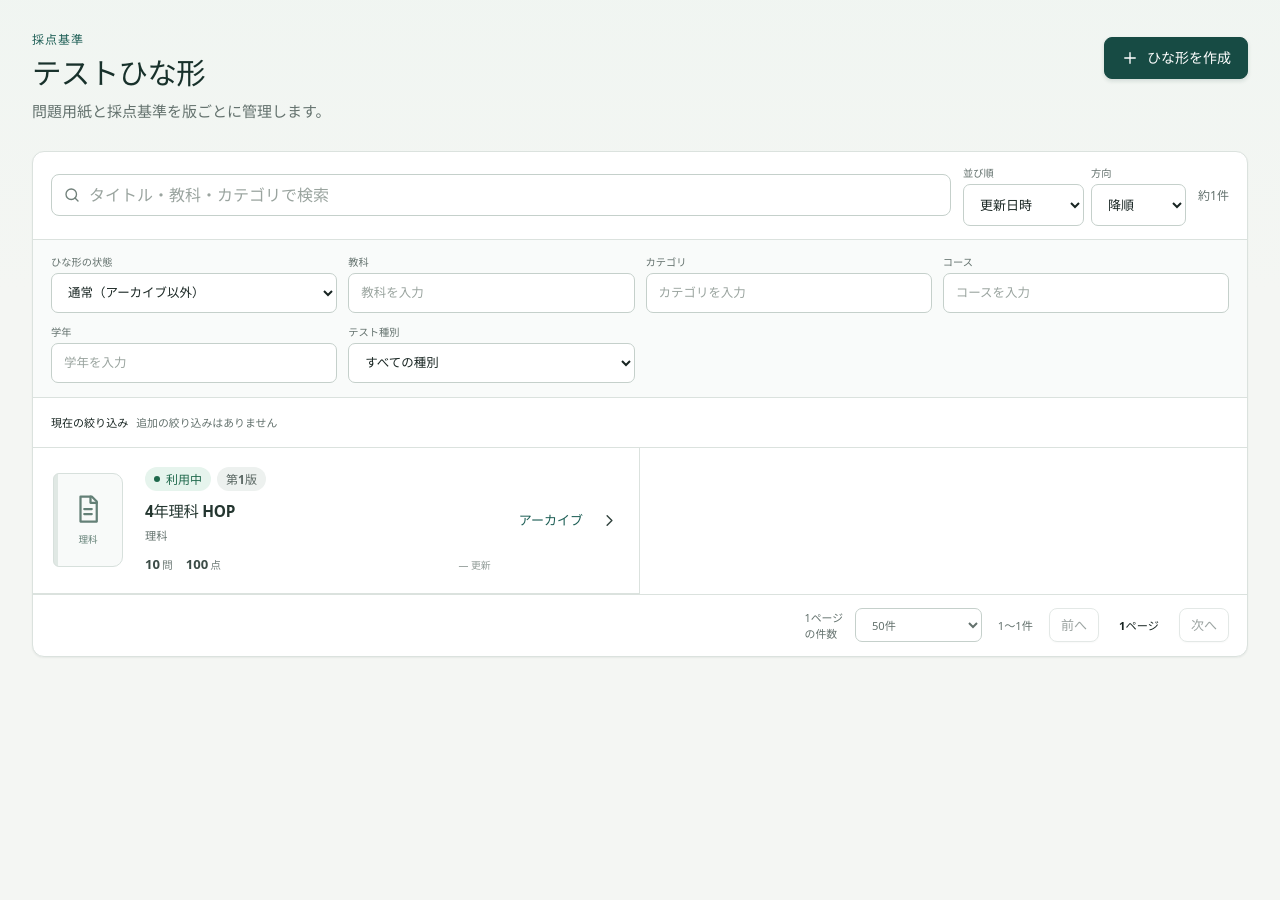
TemplatesPage lifecycle actions › archives a template only after explaining what remains
Click the button "アーカイブ": (551, 520) top-left (507, 503), bottom-right (595, 537)
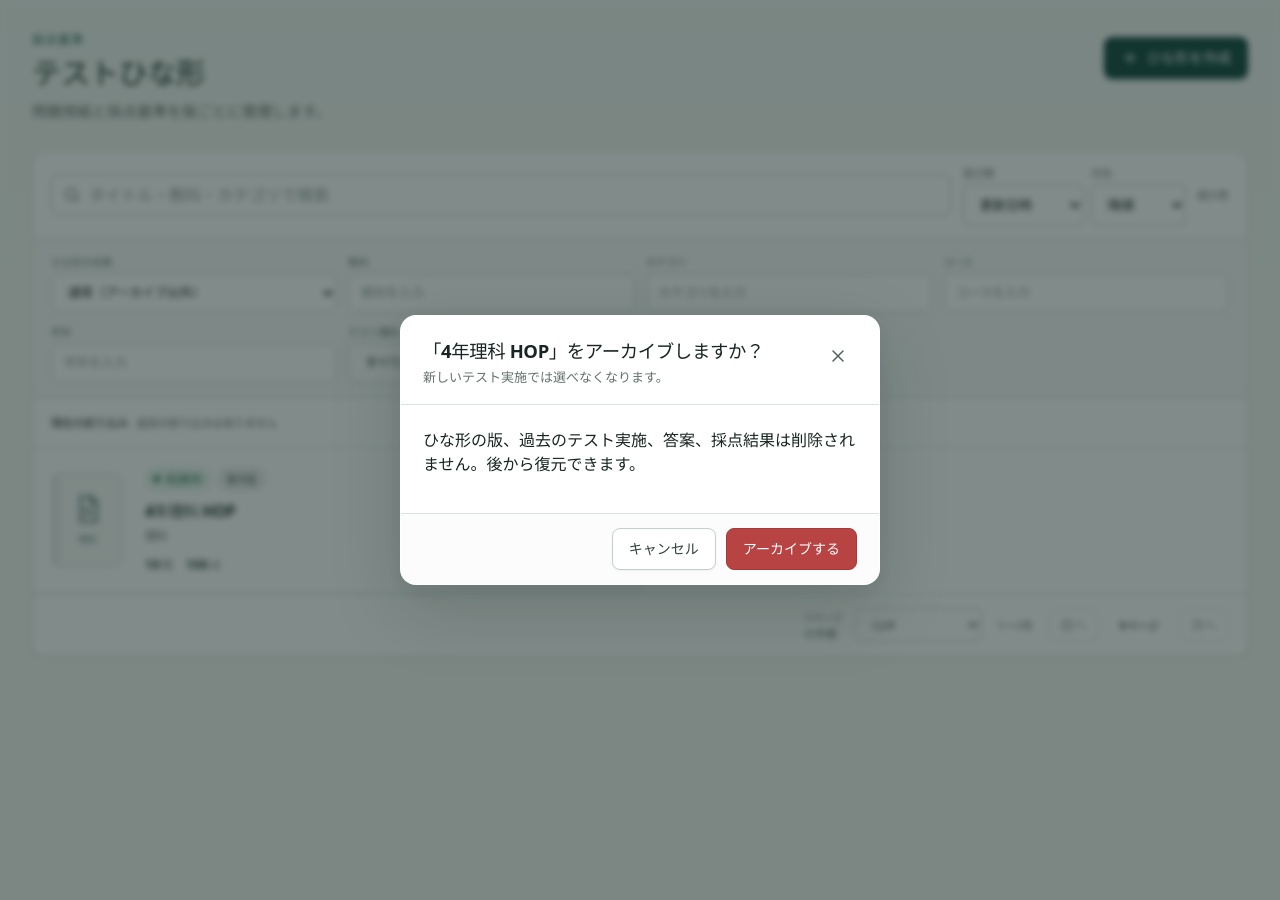
Expected: the heading "「4年理科 HOP」をアーカイブしますか？" is shown, top-left (423, 337), bottom-right (764, 363)
Expected: the text "ひな形の版、過去のテスト実施、答案、採点結果は削除されません。後から復元できます。" is shown, top-left (423, 427), bottom-right (857, 475)
Click the button "アーカイブする": (791, 549) top-left (726, 528), bottom-right (857, 570)
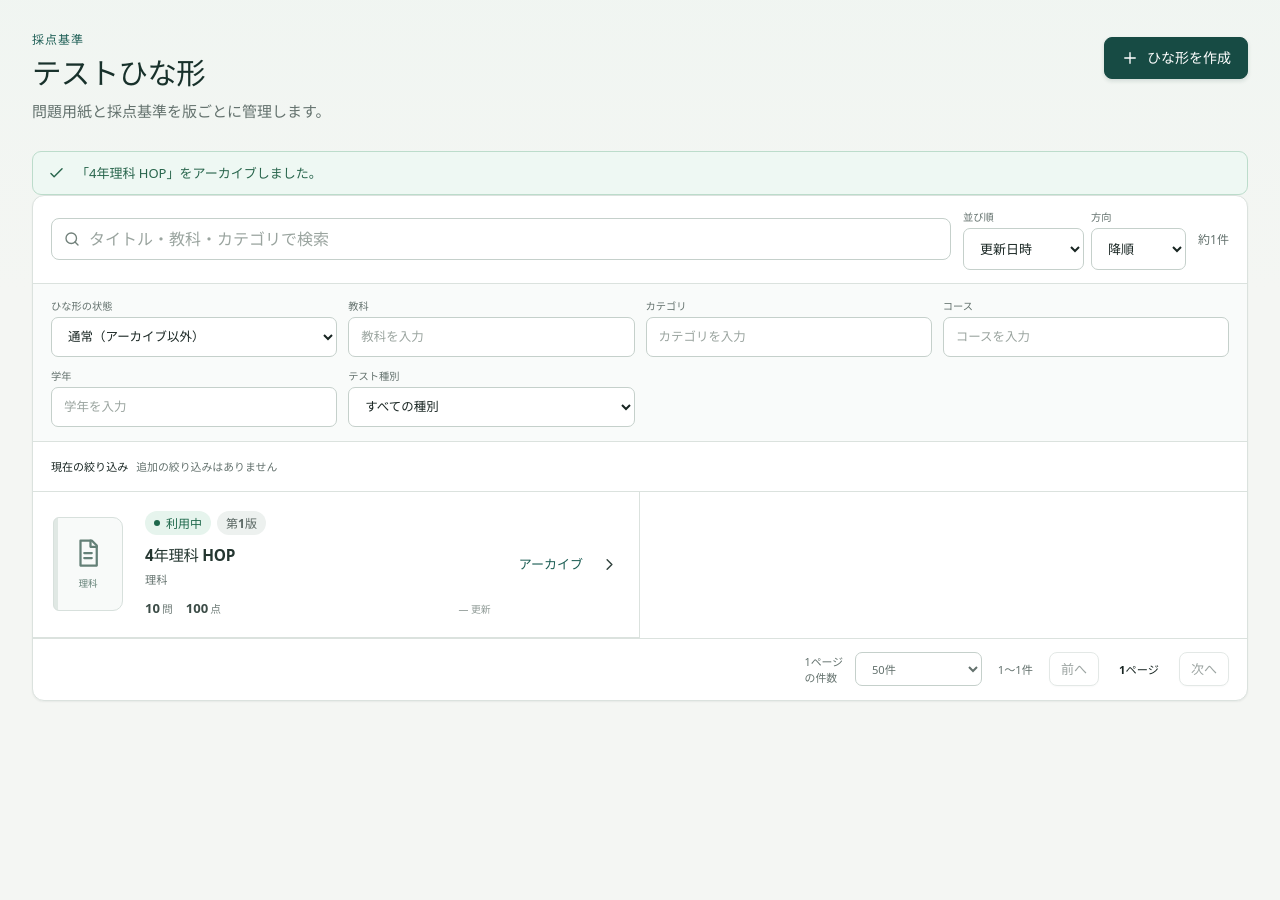
Expected: the text "「4年理科 HOP」をアーカイブしました。" is shown, top-left (76, 164), bottom-right (322, 182)
